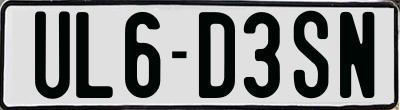3: (242, 12, 280, 103)
6: (125, 12, 161, 104)
D: (197, 12, 235, 101)
L: (73, 9, 116, 99)
N: (339, 12, 374, 98)
S: (294, 8, 330, 96)
U: (34, 10, 75, 98)
